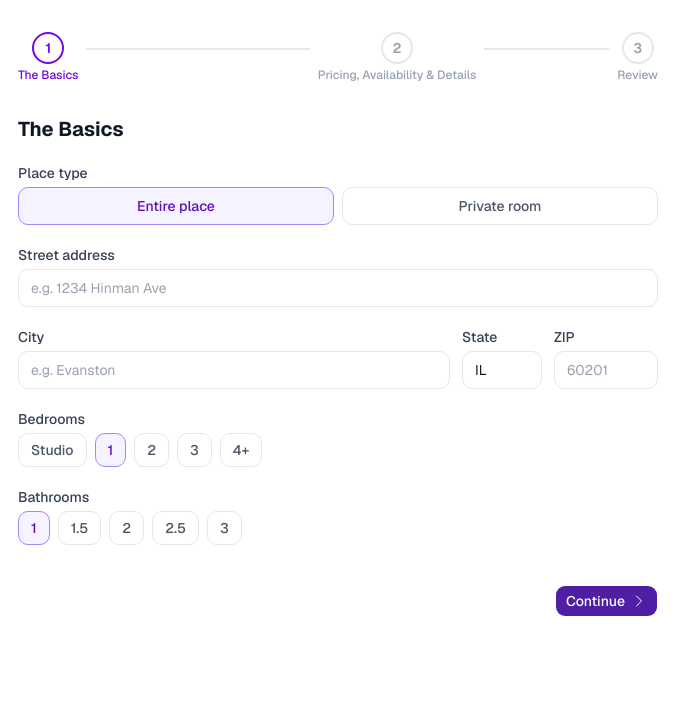
Test: ListingForm › step 2 validation: missing price shows error
The width and height of the screenshot is (678, 720).
Type "1234 Hinman Ave" into the field with placeholder "e.g. 1234 Hinman Ave" at (338,288), box [18,269,658,307]
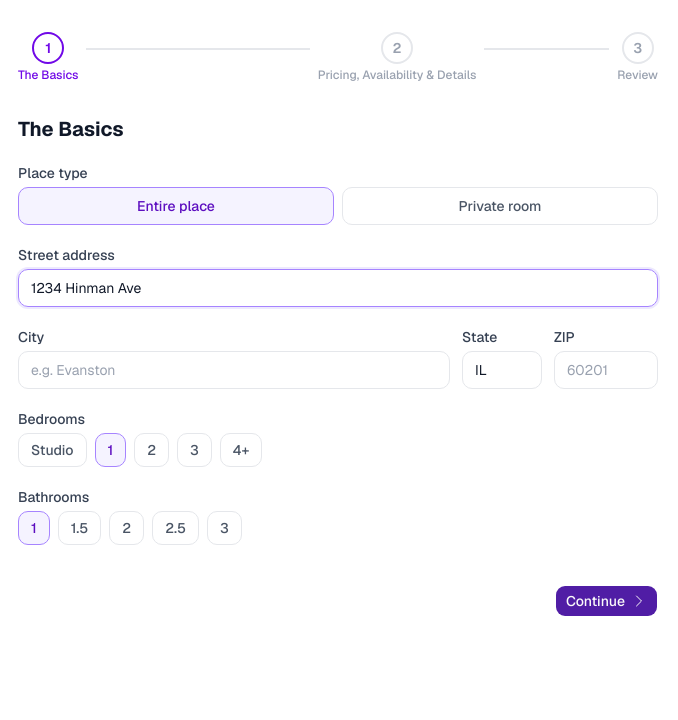
Type "Evanston" into the field with placeholder "e.g. Evanston" at (234,370), box [18,351,450,389]
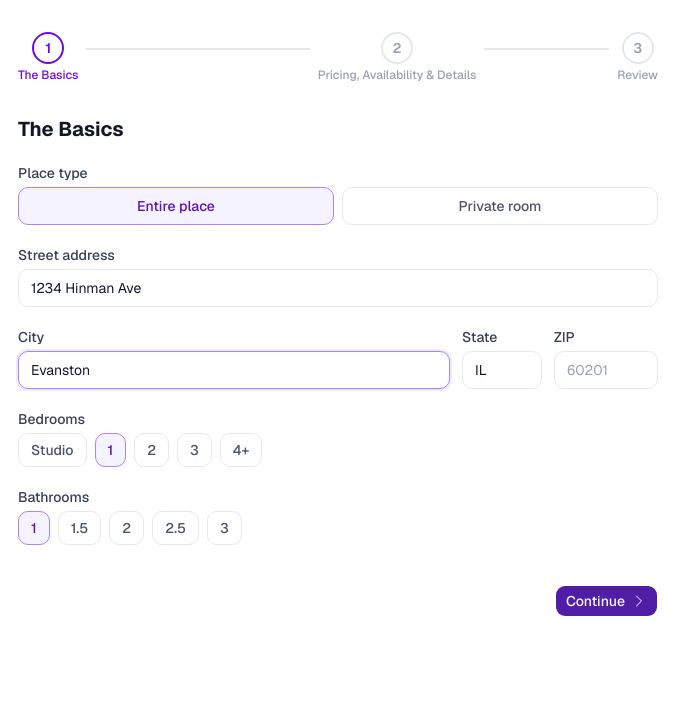
Type "60202" into the field with placeholder "60201" at (606,370), box [554,351,658,389]
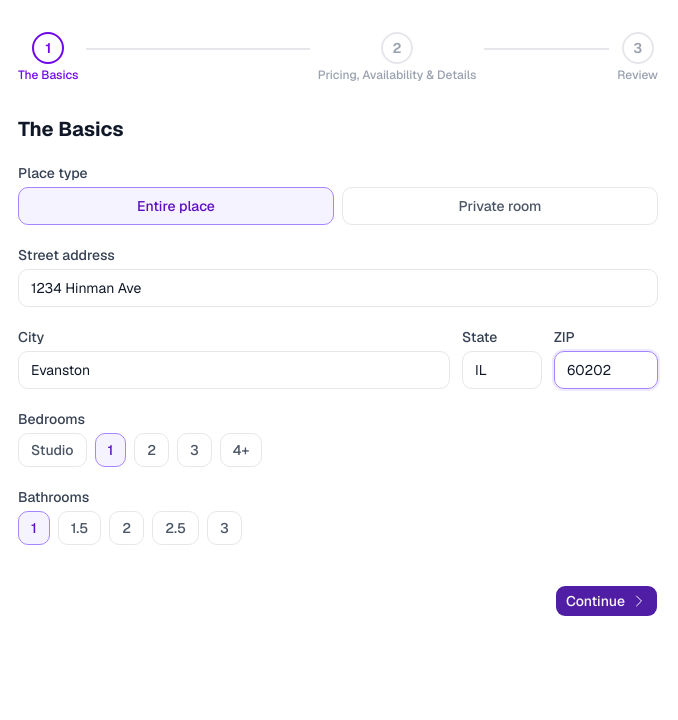
Click the button "Continue" at (606,601), box [555,585,658,617]
(page scrolled)
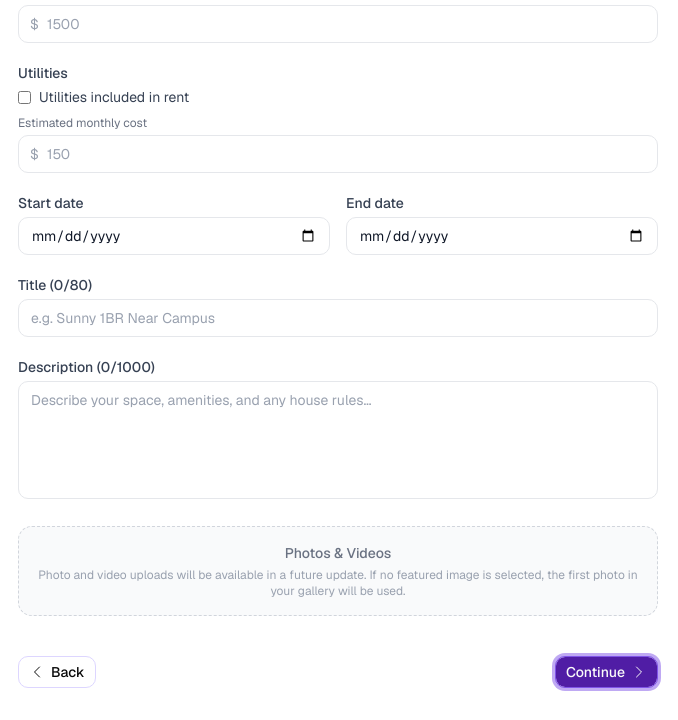
Click the button "Continue" at (606,672), box [555,656,658,688]
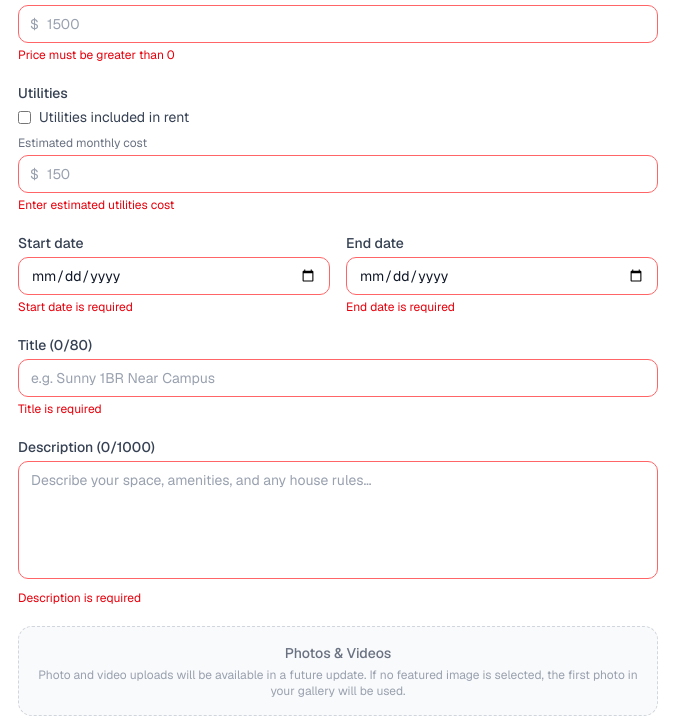
Now the text "Price must be greater than 0" is shown, box [18,47,175,63]
